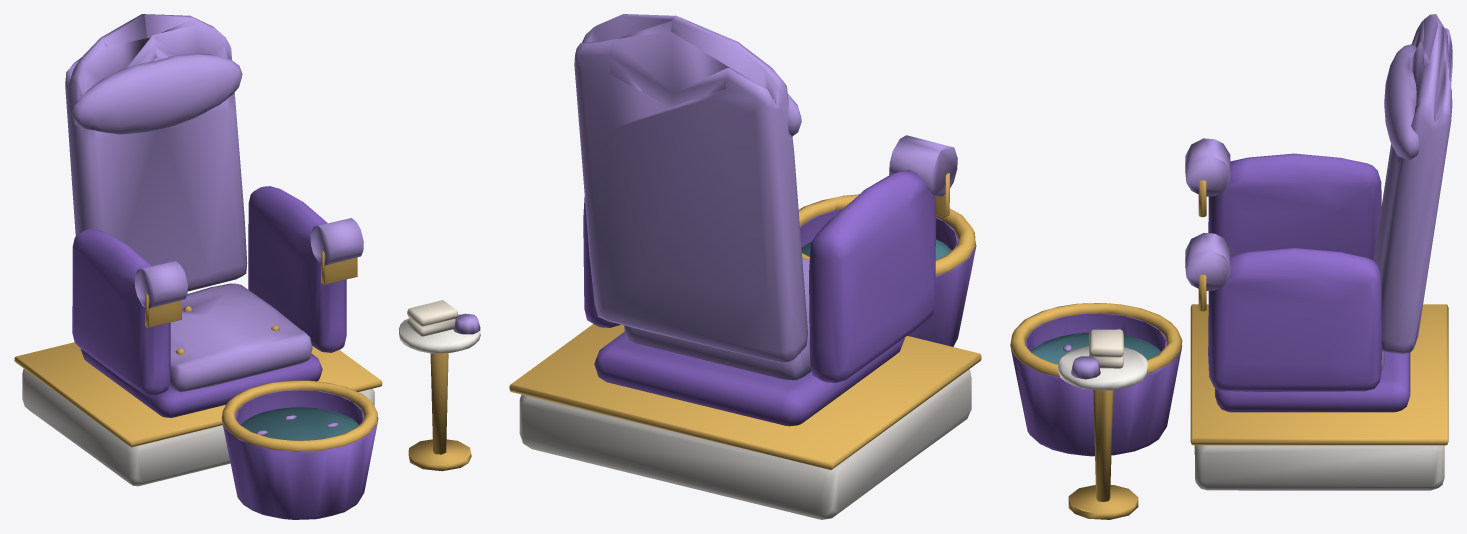
The model's file is pedicure-chair-lilac.glb.
The picture shows the model from 3 angles, left to right: view 1: azimuth 30°, elevation 25°; view 2: azimuth 150°, elevation 25°; view 3: azimuth 270°, elevation 25°; orthographic projection. The views are drawn at different scales.
Visible parts, largest first — view 1: pedicure-chair-lilac; view 2: pedicure-chair-lilac; view 3: pedicure-chair-lilac.
Part boxes in pixels (x1,y1,x2,y2): pedicure-chair-lilac: (14, 14, 480, 519); pedicure-chair-lilac: (509, 14, 981, 519); pedicure-chair-lilac: (1010, 14, 1452, 519).
Size of the model in its own units: 1.11 by 1.28 by 1.27.
